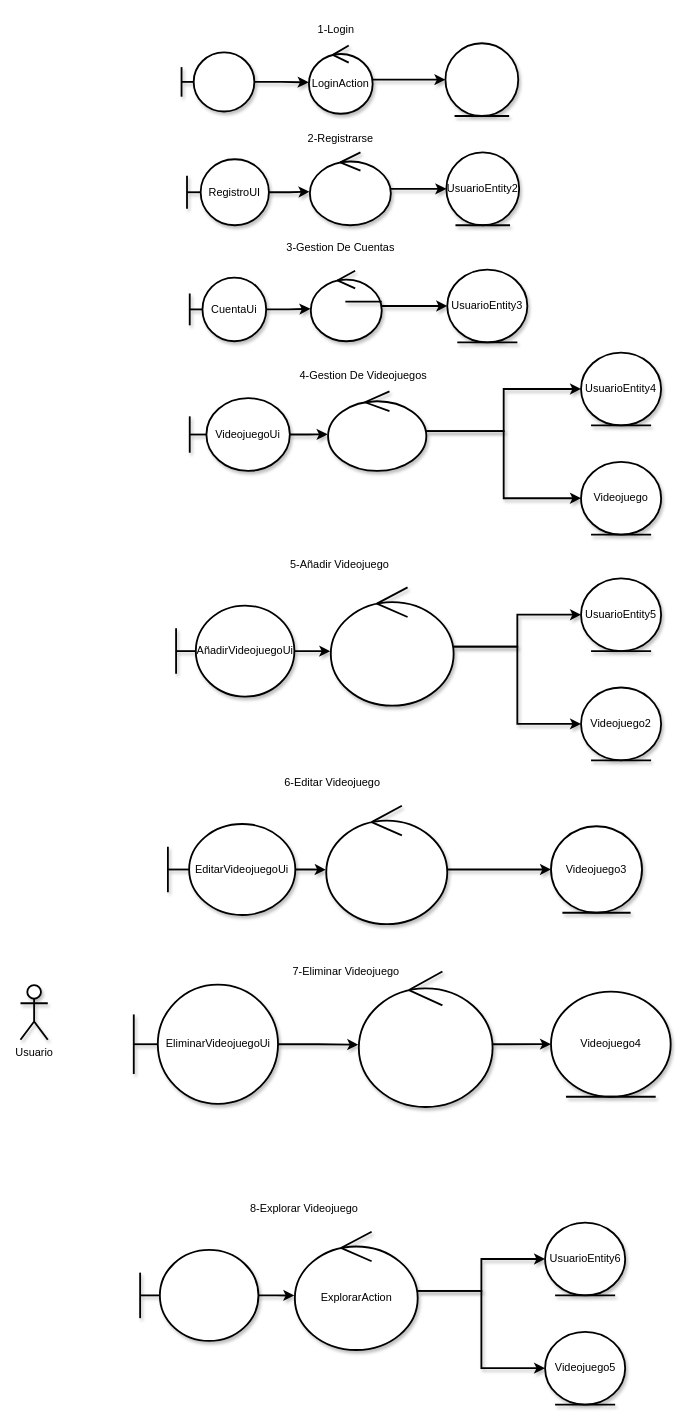
This 693x1427 diagram has some shape labels left out. Each missing label, with the centre of its shape:
AñadirVideojuegoAction: the point at 393,647
CuentaAction: the point at 347,307
EditarVideojuegoAction: the point at 387,866
EliminarVideojuegoAction: the point at 426,1040
ExplorarUi: the point at 199,1296
LoginUi: the point at 218,82
RegistroAction: the point at 351,189
UsuarioEntity: the point at 482,80
VideojuegoAction: the point at 377,432
